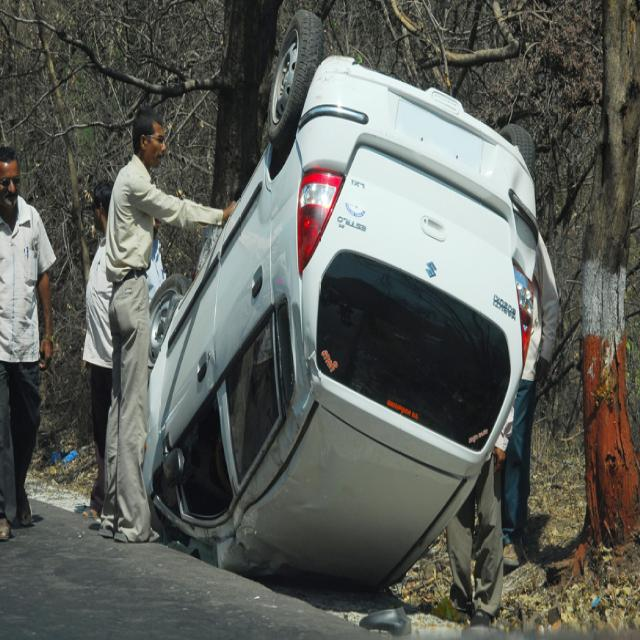accident: (144, 9, 539, 586)
